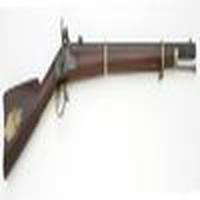gun: (4, 29, 200, 170)
